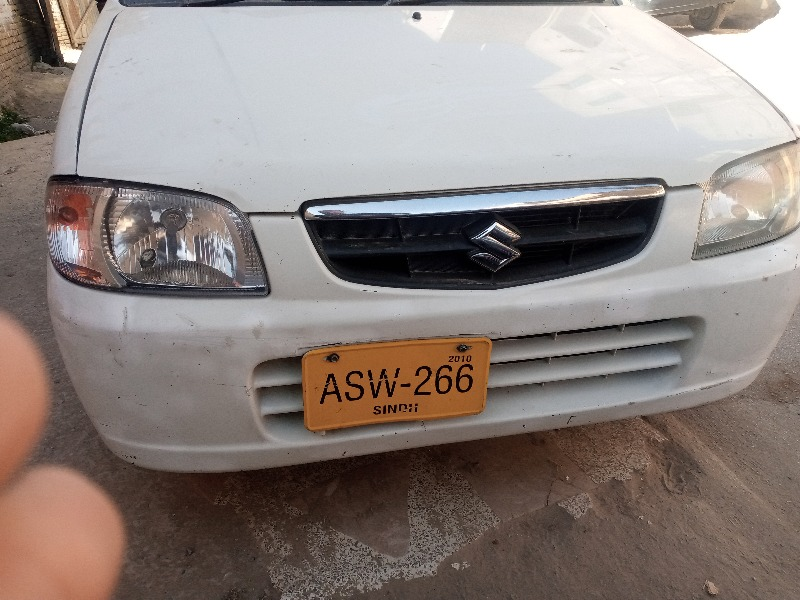License Plate: (298, 339, 489, 428)
